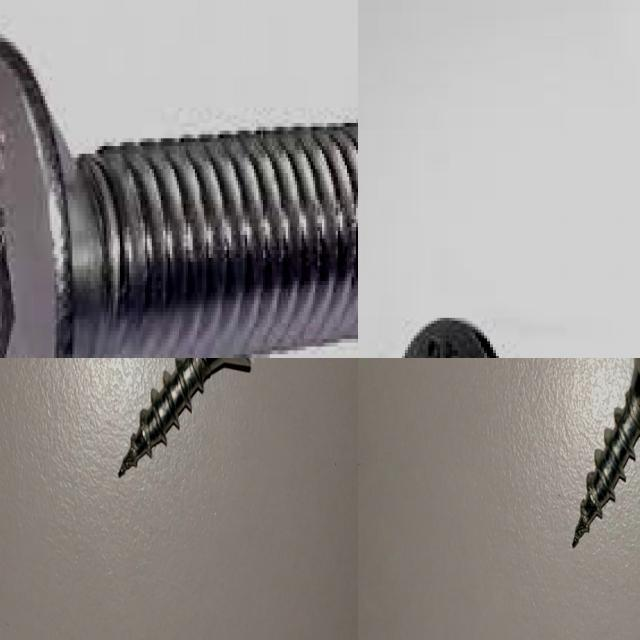Screw: (0, 38, 358, 358), (118, 358, 253, 477), (572, 358, 640, 547)
